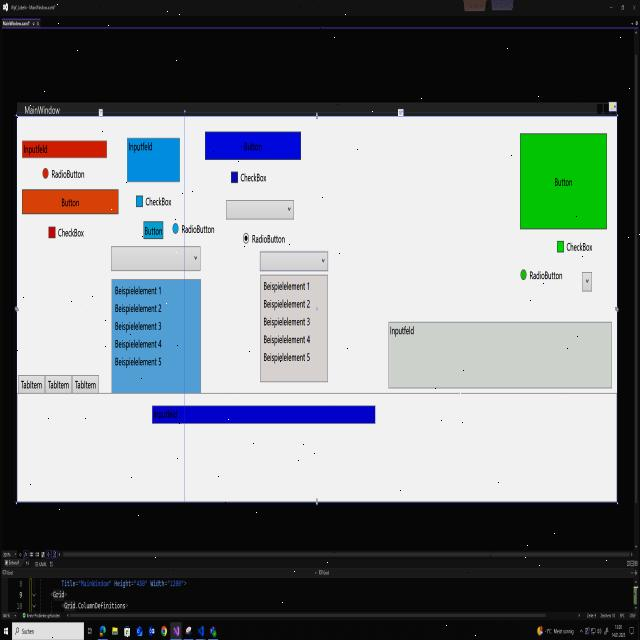button: (518, 128, 610, 235), (203, 127, 303, 164), (20, 185, 120, 218), (141, 216, 165, 241)
checkbox: (230, 170, 239, 185), (48, 225, 56, 240), (136, 194, 144, 208), (556, 240, 564, 253)
dropdownMenu: (110, 244, 202, 395), (259, 249, 329, 385), (225, 199, 295, 221), (581, 270, 593, 292)
input: (386, 316, 614, 394), (150, 401, 378, 429), (125, 132, 183, 186), (21, 136, 108, 162)
label: (252, 233, 286, 244), (530, 271, 564, 281), (240, 172, 267, 184), (182, 225, 215, 234), (52, 170, 84, 179), (58, 227, 84, 238), (566, 242, 593, 252), (145, 197, 172, 207)
menuItem: (264, 351, 312, 366), (263, 334, 312, 348), (115, 356, 163, 369), (263, 298, 311, 311), (115, 338, 162, 351), (263, 280, 311, 292), (263, 316, 311, 328), (115, 284, 162, 296), (115, 304, 162, 315), (115, 320, 162, 331)
radio: (242, 232, 250, 244), (520, 268, 527, 281), (172, 222, 179, 235), (42, 167, 49, 179)
tabControl: (70, 372, 100, 397), (18, 372, 46, 396), (44, 373, 73, 396)
